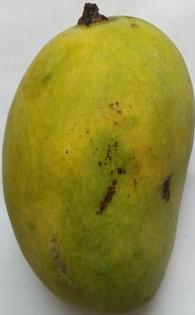PartiallyRipe: (0, 1, 195, 315)
